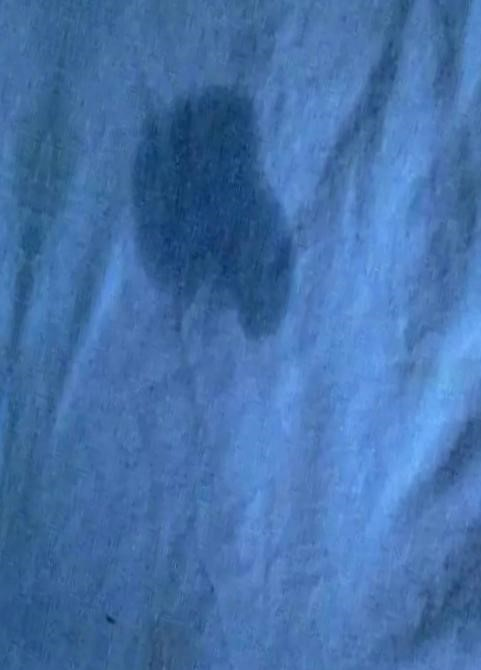stain: (125, 75, 312, 351)
